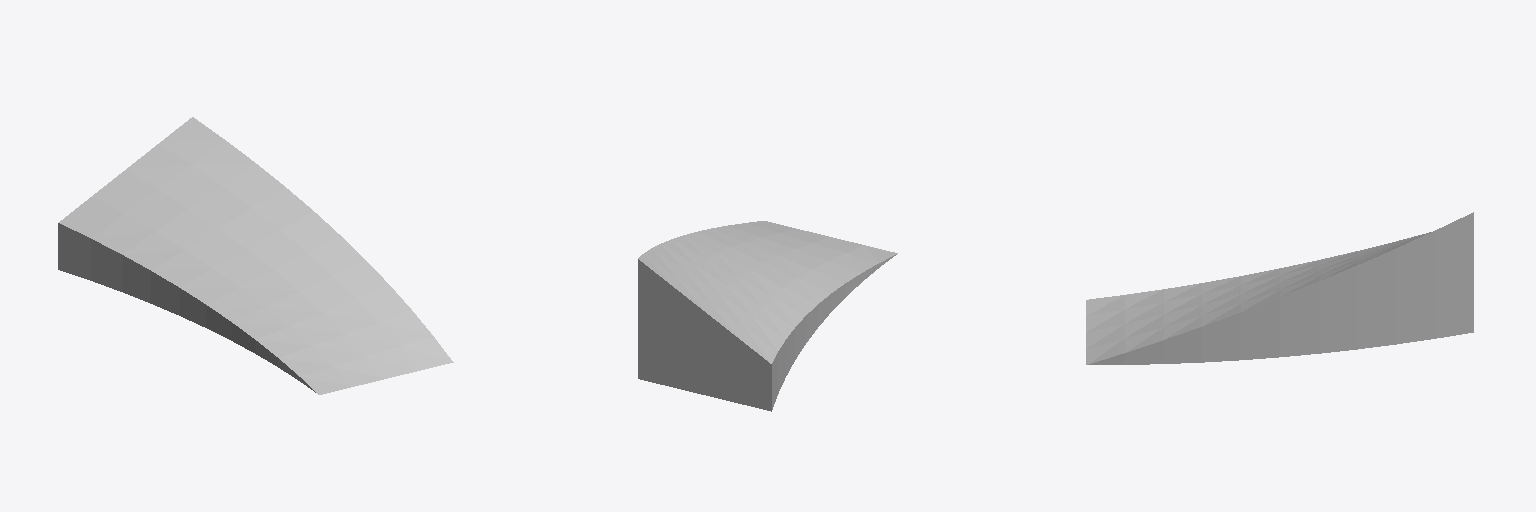
Rendered from curved_ramp_V3_R.obj.
3 views of the same model, side by side, from view 1: azimuth 30°, elevation 25°; view 2: azimuth 150°, elevation 25°; view 3: azimuth 270°, elevation 25° (orthographic).
Parts seen in each view (by area): view 1: Cube.001; view 2: Cube.001; view 3: Cube.001.
Boxes of the visible parts, <box> form: Cube.001: <box>58,117,453,394</box>; Cube.001: <box>638,221,897,411</box>; Cube.001: <box>1086,212,1473,364</box>.
Size of the model in its own units: 1.2 by 0.6853 by 2.